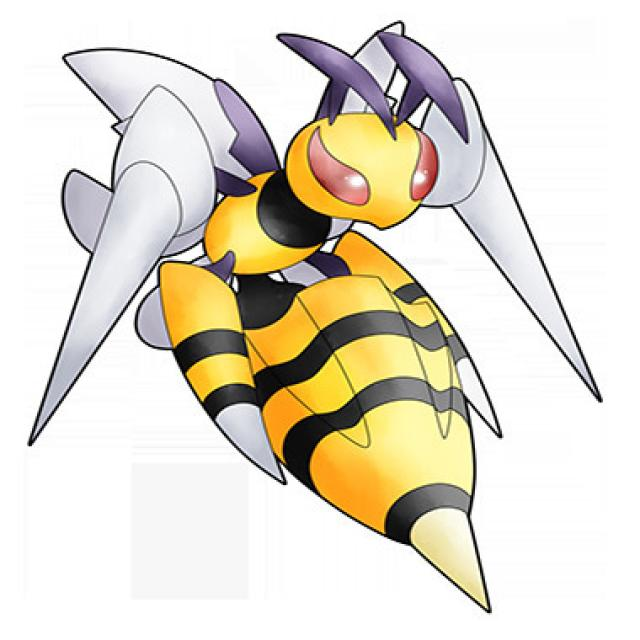Beedrill: (70, 33, 585, 591)
